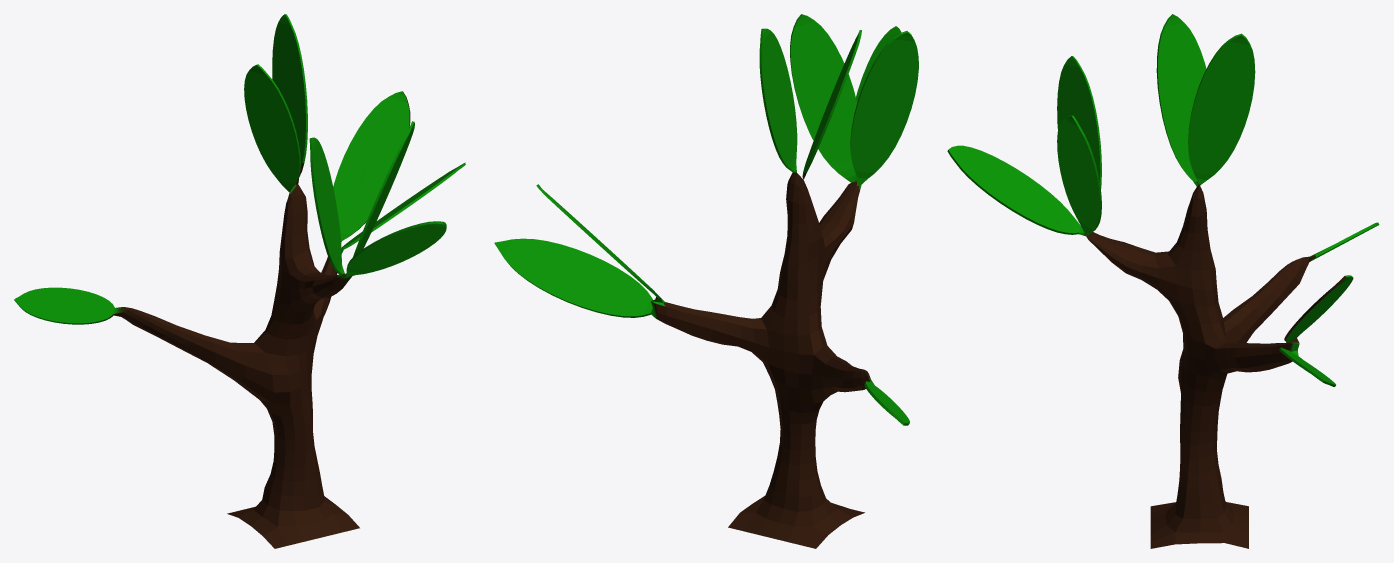
The model's file is branch_obstacle.fbx.
3 renders of one model, left to right at view 1: azimuth 30°, elevation 25°; view 2: azimuth 150°, elevation 25°; view 3: azimuth 270°, elevation 25°, orthographic. The views are drawn at different scales.
Visible parts, largest first — view 1: Cylinder.004; view 2: Cylinder.004; view 3: Cylinder.004.
Part boxes in pixels (bbox=[...]): Cylinder.004: bbox=[14, 14, 465, 548]; Cylinder.004: bbox=[494, 14, 918, 548]; Cylinder.004: bbox=[947, 14, 1379, 548].
Bounding box in the file's own units: 856 × 993 × 1092.
1 material, 1 textured.
